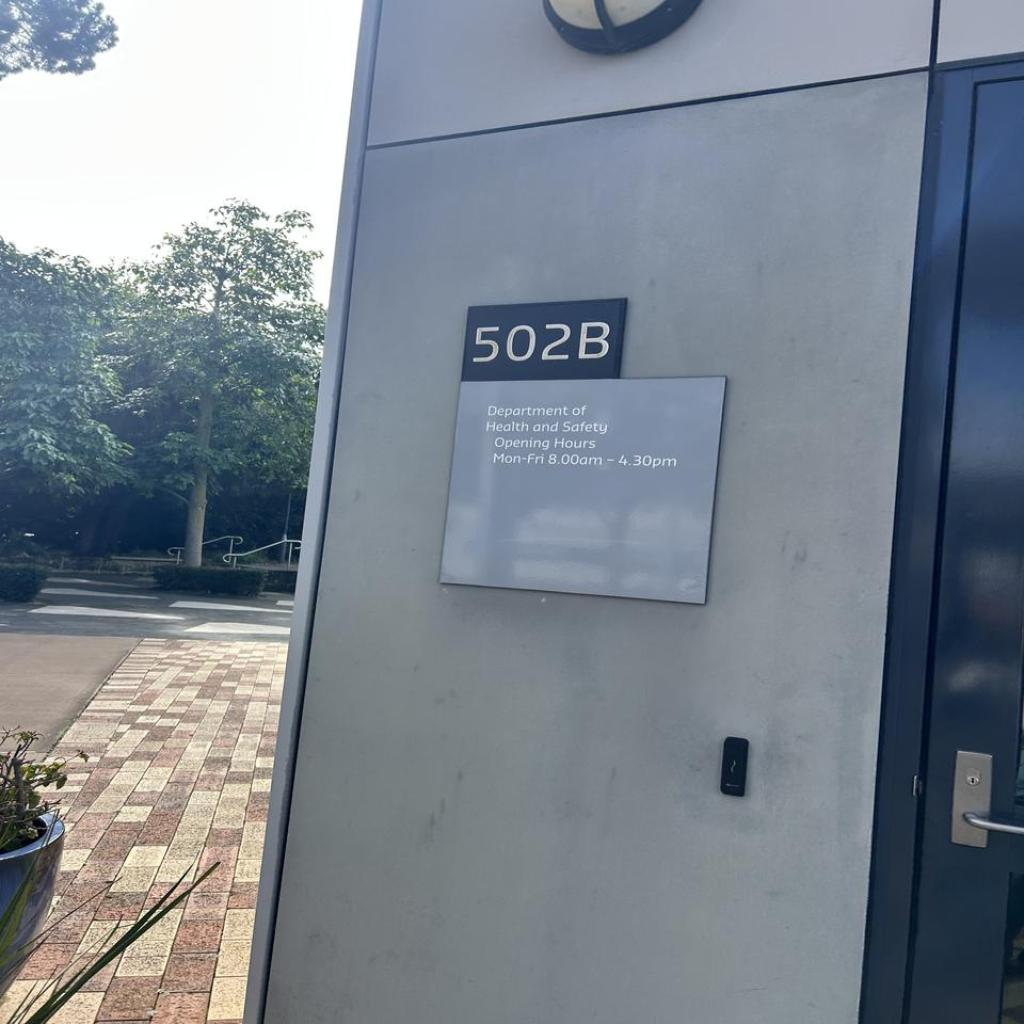BuildingCodes: (470, 318, 614, 366)
